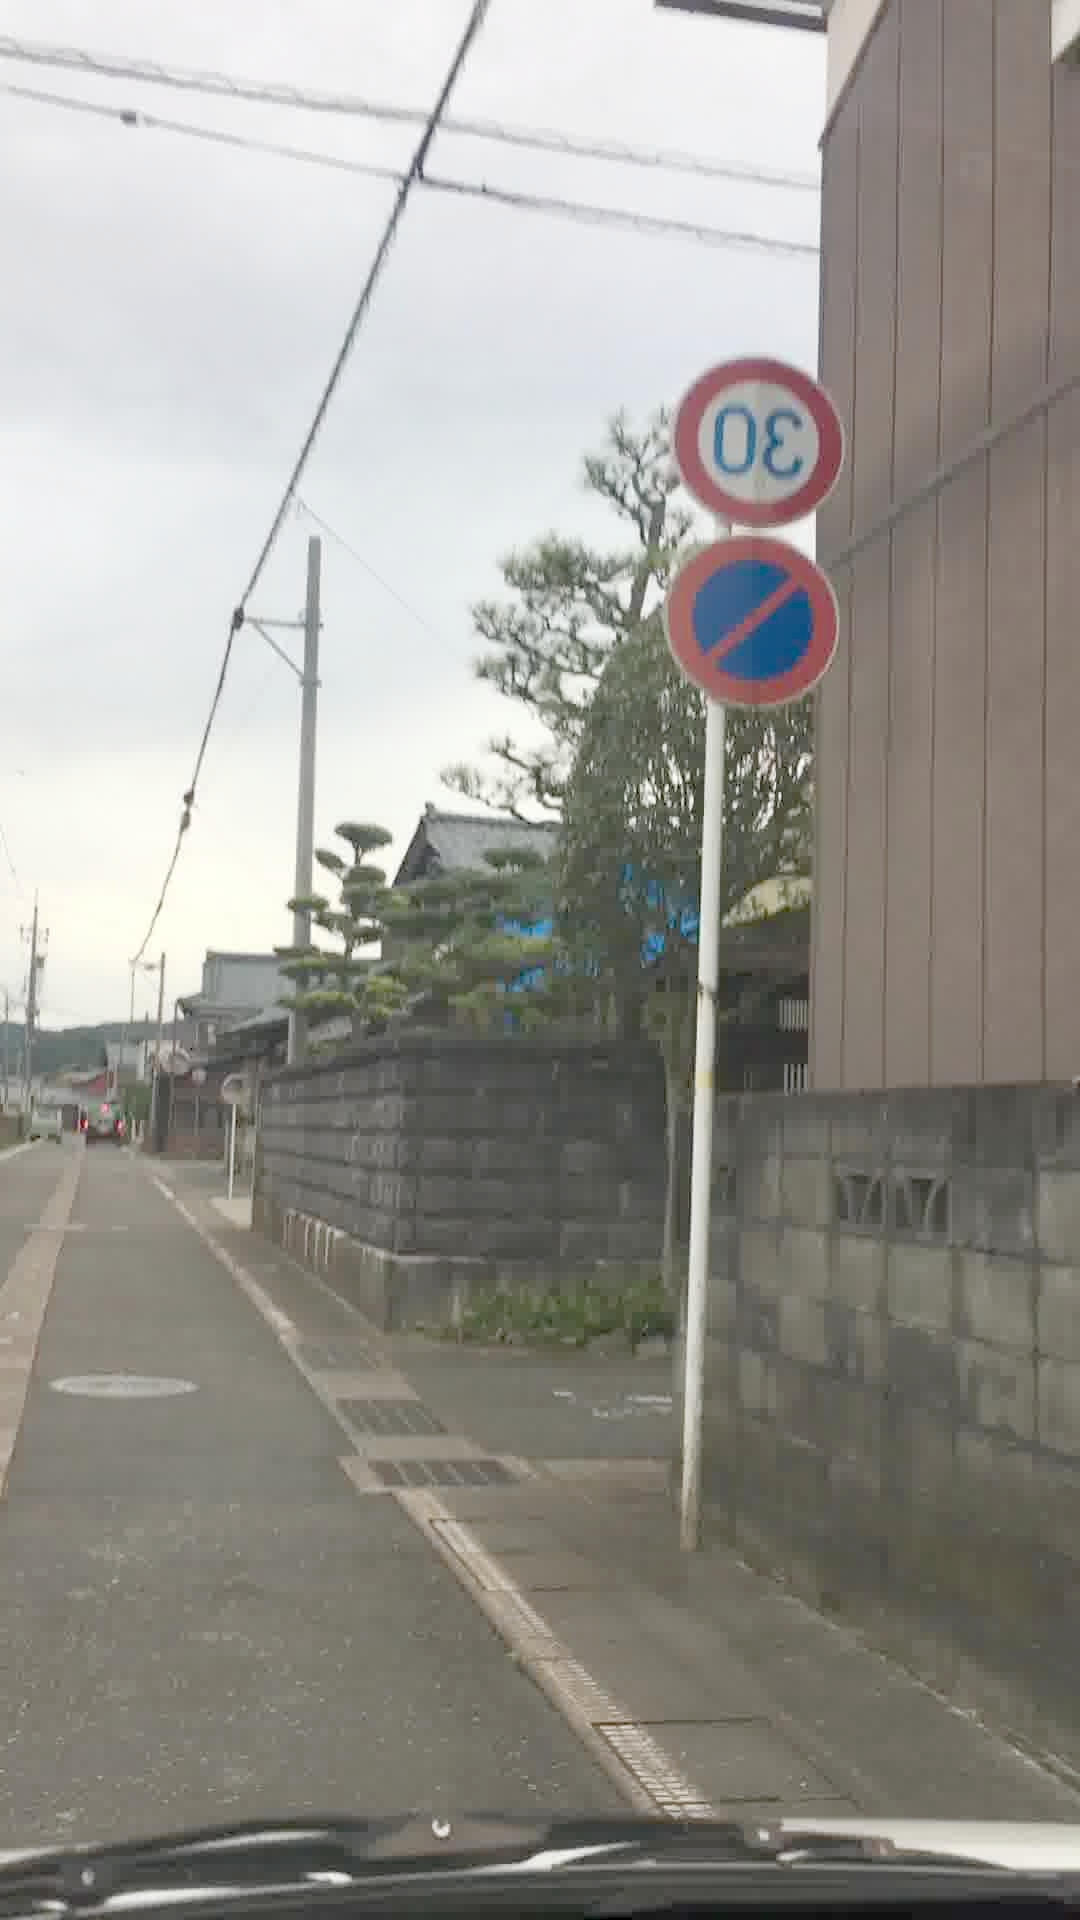Prohibition_sign: (636, 534, 832, 724)
Speed_sign: (670, 334, 840, 527)
